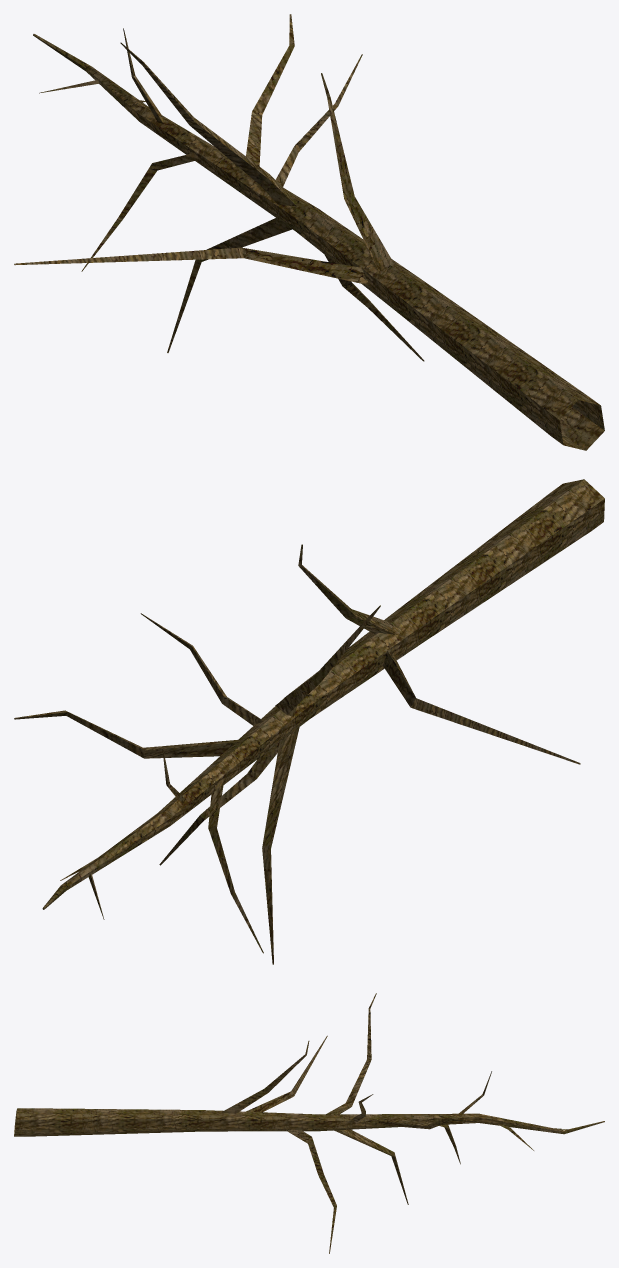
The model's file is Low Poly Dead Tree.fbx.
3 renders of one model, top to bottom at view 1: azimuth 30°, elevation 25°; view 2: azimuth 150°, elevation 25°; view 3: azimuth 270°, elevation 25°, orthographic. The views are drawn at different scales.
Visible parts, largest first — view 1: Cylinder.001; view 2: Cylinder.001; view 3: Cylinder.001.
Boxes of the visible parts, box(x1,y1,x2,y2) form: Cylinder.001: box(14, 14, 604, 450); Cylinder.001: box(14, 479, 604, 964); Cylinder.001: box(14, 993, 604, 1253).
Size of the model in its own units: 1530 by 1903 by 4278.
